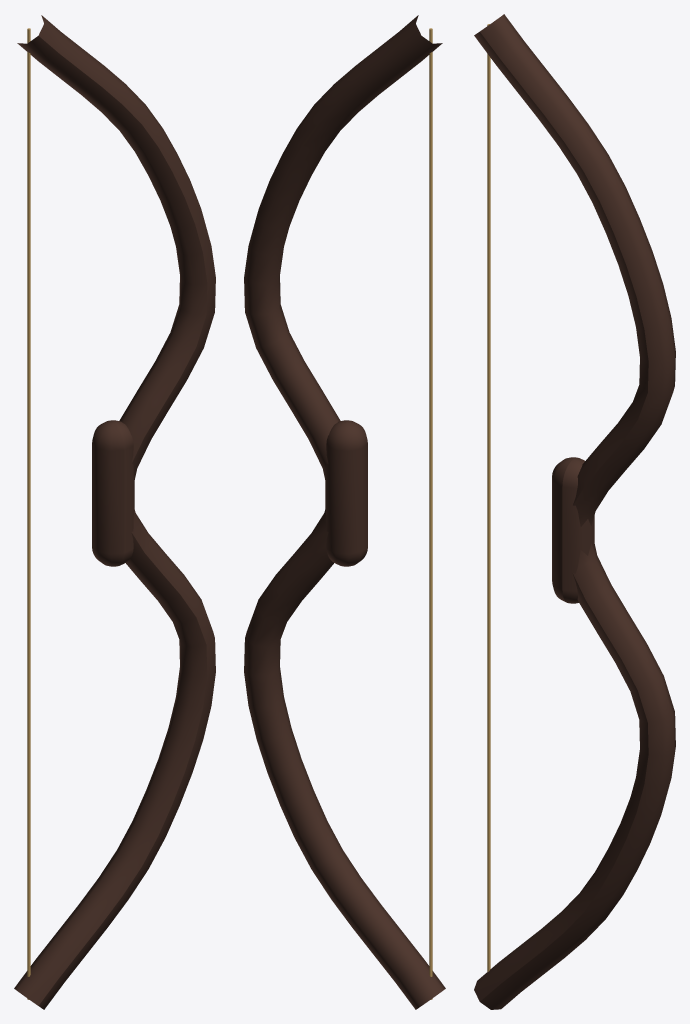
File: bow.glb
3 views of the same model, side by side, from view 1: azimuth 30°, elevation 25°; view 2: azimuth 150°, elevation 25°; view 3: azimuth 330°, elevation 25° (orthographic).
Visible parts, largest first — view 1: bow_wood, bow_gold; view 2: bow_wood, bow_gold; view 3: bow_wood, bow_gold.
Boxes of the visible parts, bbox=[...] form: bow_wood: bbox=[14, 15, 215, 1009]; bow_gold: bbox=[27, 28, 30, 999]; bow_wood: bbox=[244, 15, 445, 1009]; bow_gold: bbox=[429, 28, 432, 999]; bow_wood: bbox=[474, 14, 675, 1009]; bow_gold: bbox=[487, 24, 490, 972].
Bounding box in the file's own units: 0.2805 × 1.35 × 0.054.
